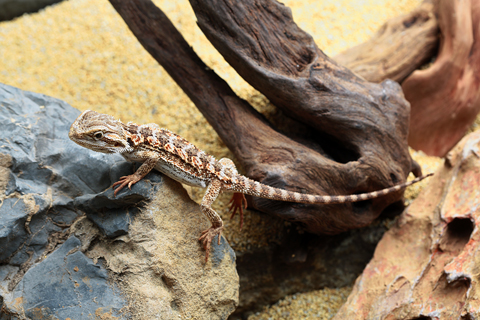bearded: (68, 109, 436, 264)
